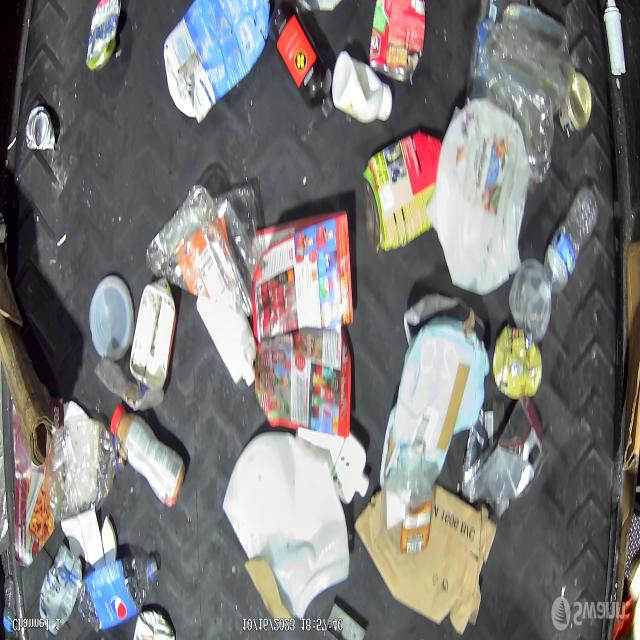can: (369, 0, 426, 86), (39, 542, 82, 636), (492, 324, 543, 400), (85, 0, 123, 74), (559, 73, 592, 136), (26, 104, 56, 152)
milk_jug: (222, 430, 350, 619), (427, 99, 532, 298)
non_white_jug: (162, 0, 270, 122)
plastic_bottle: (47, 422, 126, 519), (539, 185, 599, 304), (77, 554, 158, 635), (380, 447, 435, 559), (4, 578, 15, 640)
